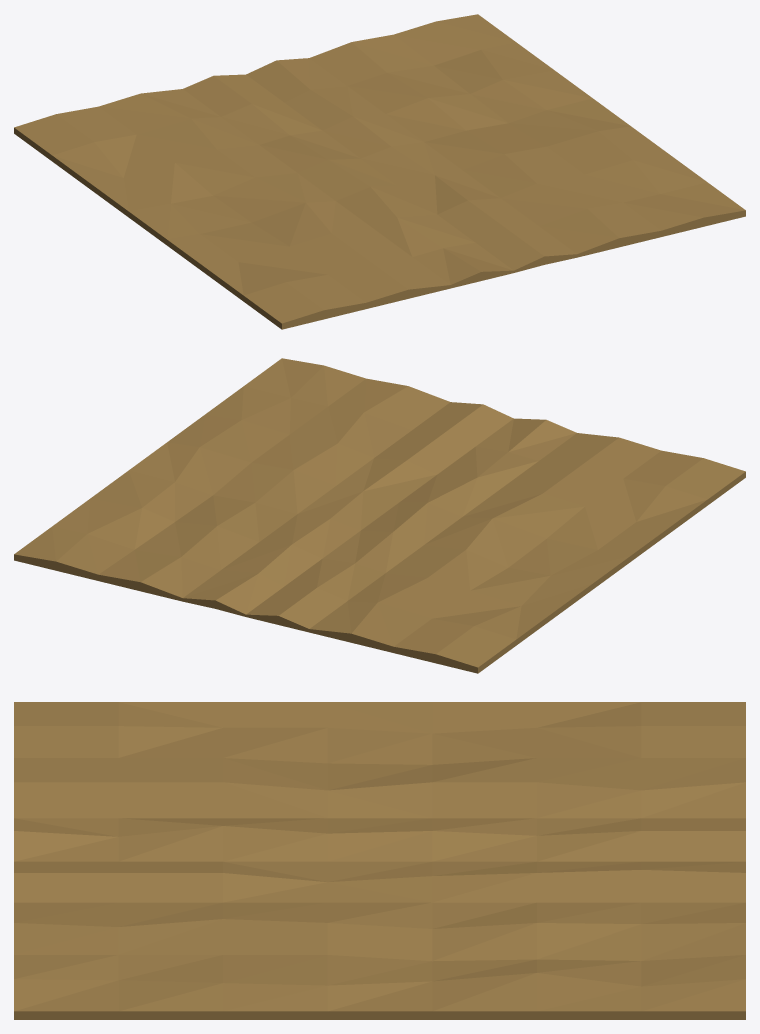
File: soil-patch.lod1.glb
3 views of the same model, one above another, from view 1: azimuth 30°, elevation 25°; view 2: azimuth 150°, elevation 25°; view 3: azimuth 270°, elevation 25° (orthographic). The views are drawn at different scales.
Visible parts, largest first — view 1: Soil_0; view 2: Soil_0; view 3: Soil_0.
Part boxes in pixels (x1=…): Soil_0: x1=14, y1=14, x2=745, y2=329; Soil_0: x1=14, y1=358, x2=745, y2=673; Soil_0: x1=14, y1=702, x2=745, y2=1019.
Size of the model in its own units: 9 by 0.1703 by 9.
